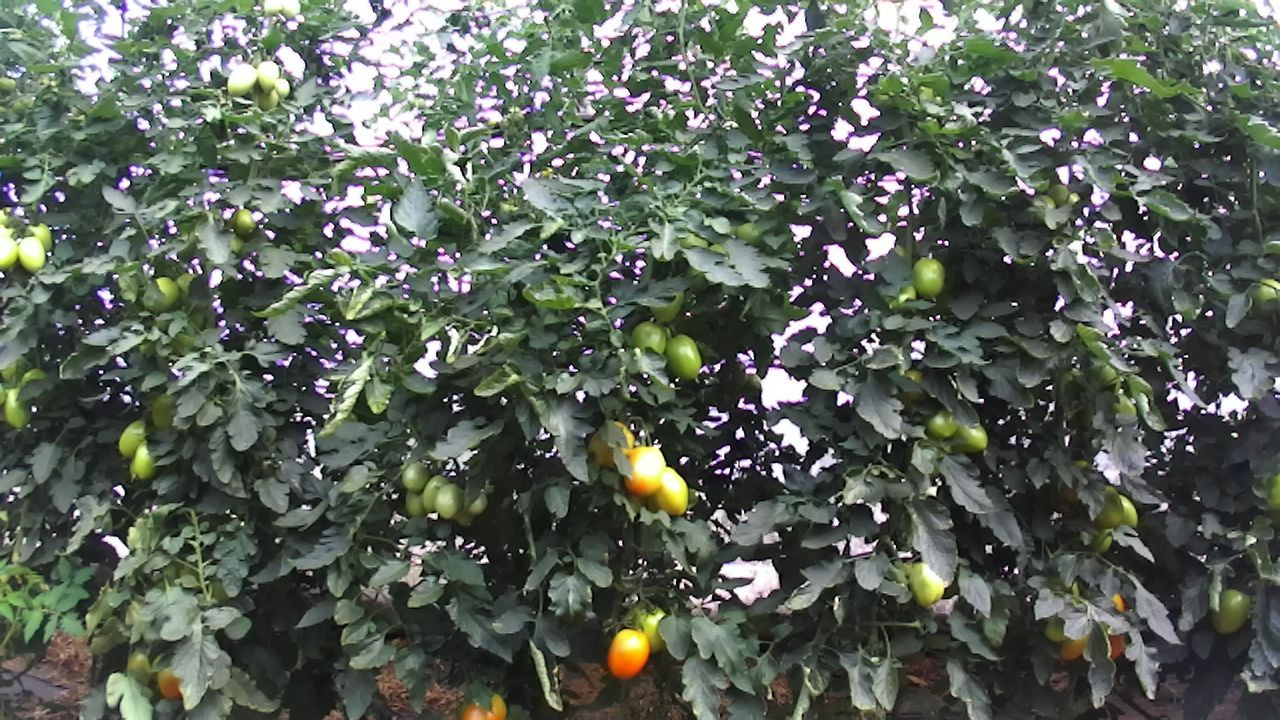tomato: (602, 625, 651, 682), (645, 464, 691, 519), (624, 443, 668, 499), (1209, 587, 1251, 637), (905, 559, 945, 611), (662, 334, 704, 382), (1090, 481, 1127, 533), (910, 253, 946, 303), (629, 318, 669, 360), (1, 384, 36, 432), (116, 414, 152, 460), (946, 415, 990, 452), (419, 472, 452, 515), (130, 438, 160, 485), (224, 59, 259, 97), (16, 234, 46, 277), (433, 481, 464, 521), (253, 57, 282, 97), (150, 391, 178, 432), (400, 461, 431, 494), (230, 206, 258, 237), (271, 74, 292, 100)
